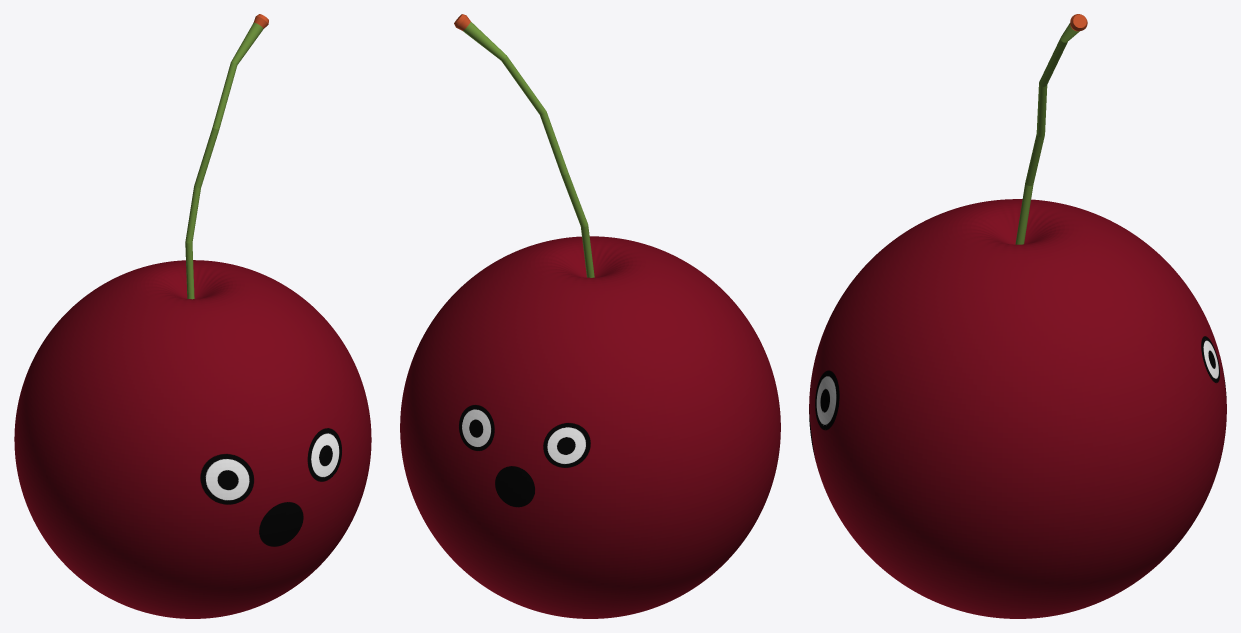
Rendered from Cherry.fbx.
The picture shows the model from 3 angles, left to right: view 1: azimuth 30°, elevation 25°; view 2: azimuth 150°, elevation 25°; view 3: azimuth 270°, elevation 25°; orthographic projection. The views are drawn at different scales.
Visible parts, largest first — view 1: Cherry, Giv'ol; view 2: Cherry, Giv'ol; view 3: Cherry, Giv'ol.
Boxes of the visible parts, x1,y1,x2,y2 form: Cherry: (14, 260, 371, 618); Giv'ol: (185, 14, 268, 299); Cherry: (400, 236, 780, 618); Giv'ol: (454, 14, 594, 277); Cherry: (809, 199, 1226, 618); Giv'ol: (1015, 14, 1087, 244).
Bounding box in the file's own units: 197 × 329 × 197.
